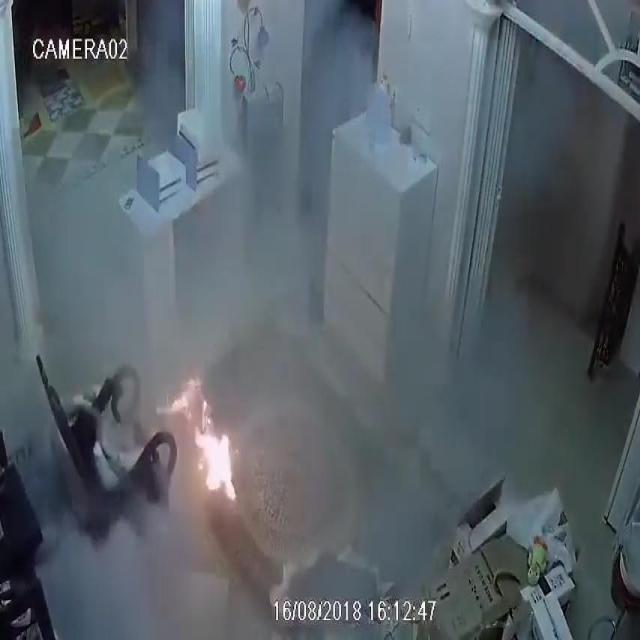fire: (194, 422, 236, 500)
